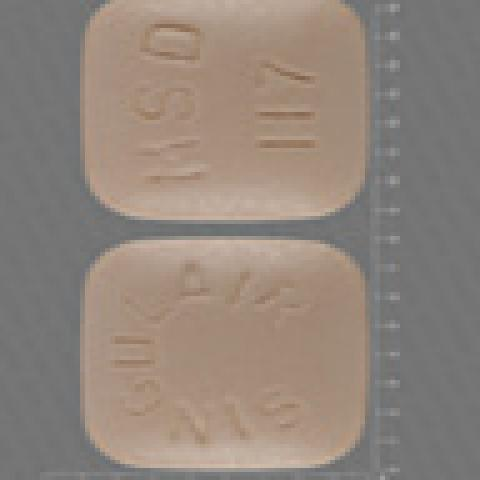hands: (73, 225, 386, 480), (70, 4, 398, 227)
